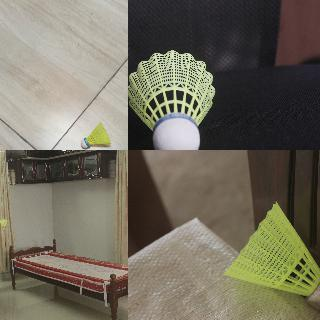shuttlecock: (222, 201, 319, 312), (128, 50, 216, 149), (80, 122, 110, 150), (0, 219, 7, 229)
